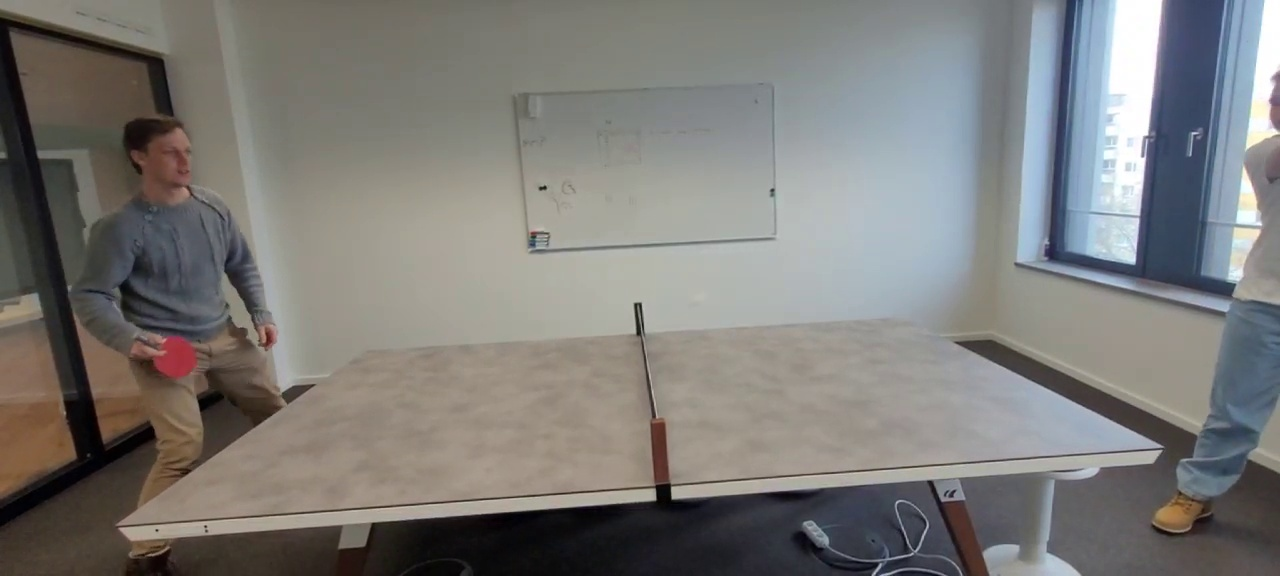1: (135, 331, 195, 377)
2: (687, 292, 704, 306)
ttplatte: (115, 313, 1164, 527)
